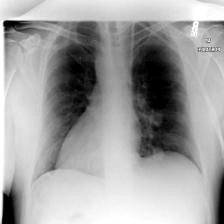normal: (32, 21, 206, 183)
